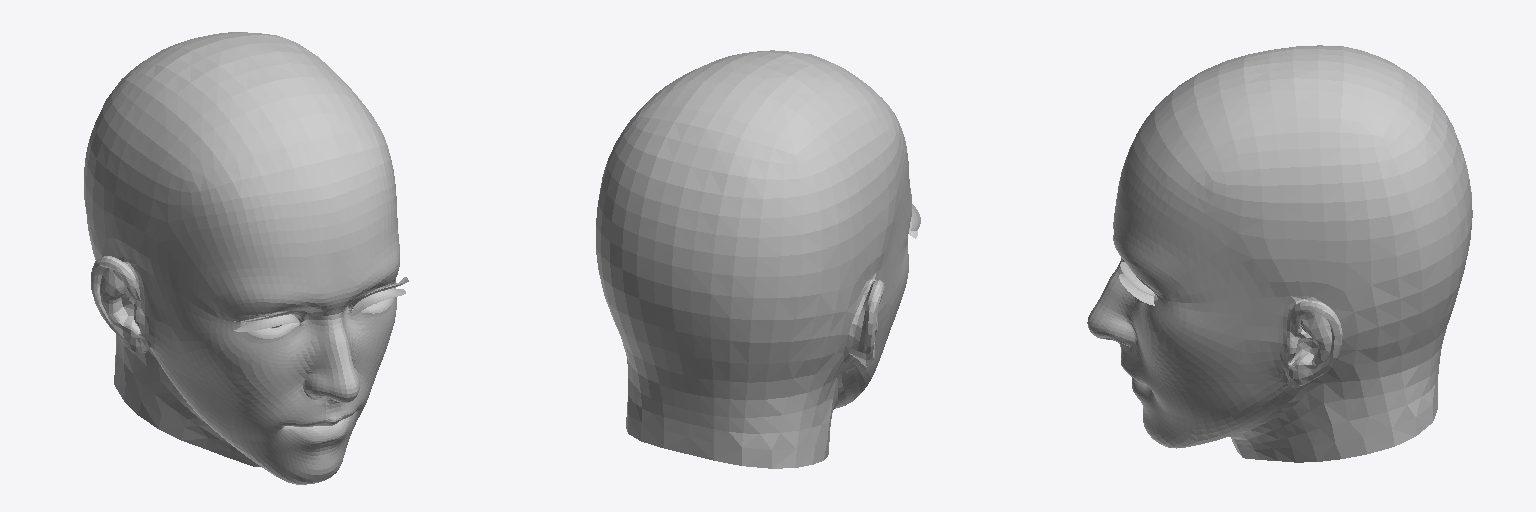
Rendered from nsh_std.obj.
3 renders of one model, left to right at view 1: azimuth 30°, elevation 25°; view 2: azimuth 150°, elevation 25°; view 3: azimuth 270°, elevation 25°, orthographic.
Visible parts, largest first — view 1: face_face, face_jiemao; view 2: face_face; view 3: face_face, face_jiemao.
Part boxes in pixels (left/top/right/bottom): face_face: left=84, top=32, right=399, bottom=484; face_jiemao: left=234, top=277, right=408, bottom=338; face_face: left=596, top=50, right=911, bottom=468; face_face: left=1087, top=45, right=1472, bottom=462; face_jiemao: left=1119, top=262, right=1157, bottom=305.
Bounding box in the file's own units: 13.73 × 18.91 × 16.91.